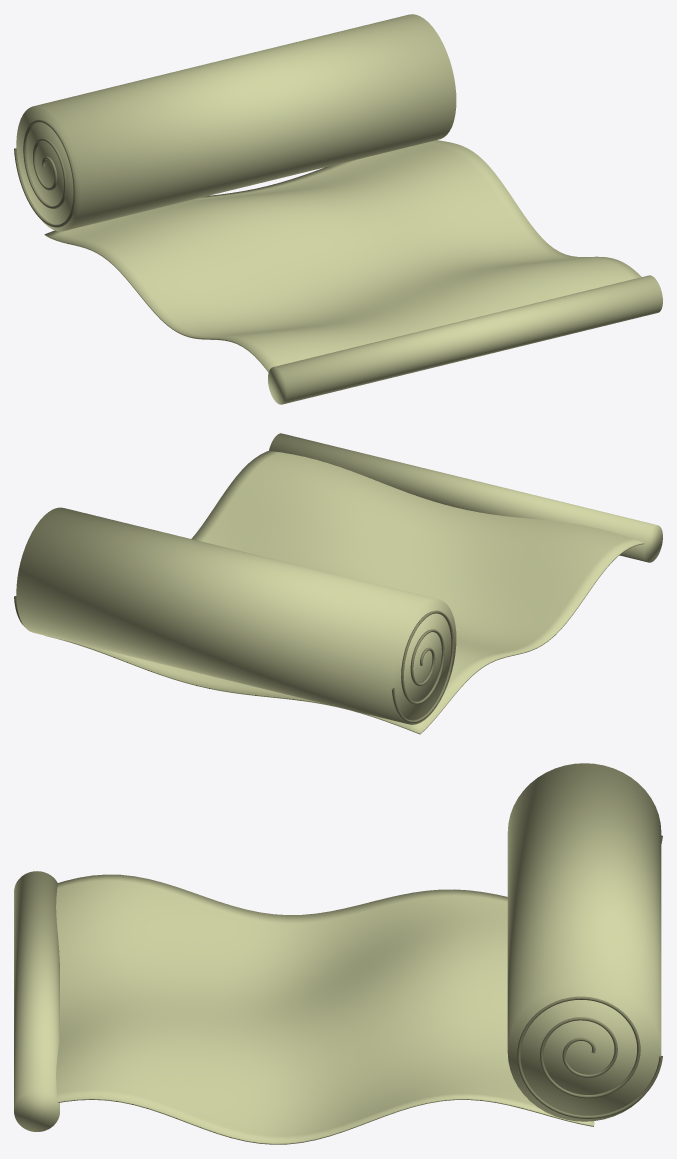
The picture shows the model from 3 angles, top to bottom: view 1: azimuth 30°, elevation 25°; view 2: azimuth 150°, elevation 25°; view 3: azimuth 270°, elevation 25°; orthographic projection. The views are drawn at different scales.
Visible parts, largest first — view 1: TI014 / editable draped woven sheet, TI014 / rolled cloth body, TI014 / partially rolled lower edge, TI014 / visible spiral selvage; view 2: TI014 / rolled cloth body, TI014 / editable draped woven sheet, TI014 / partially rolled lower edge, TI014 / visible spiral selvage; view 3: TI014 / editable draped woven sheet, TI014 / rolled cloth body, TI014 / partially rolled lower edge, TI014 / visible spiral selvage.001.
Boxes of the visible parts, x1,y1,x2,y2 form: TI014 / editable draped woven sheet: [44, 140, 641, 372]; TI014 / rolled cloth body: [16, 14, 456, 231]; TI014 / partially rolled lower edge: [268, 275, 662, 404]; TI014 / visible spiral selvage: [14, 119, 76, 227]; TI014 / rolled cloth body: [16, 507, 456, 724]; TI014 / editable draped woven sheet: [45, 450, 644, 734]; TI014 / partially rolled lower edge: [269, 433, 662, 562]; TI014 / visible spiral selvage: [391, 610, 454, 723]; TI014 / editable draped woven sheet: [56, 874, 594, 1144]; TI014 / rolled cloth body: [507, 763, 661, 1121]; TI014 / partially rolled lower edge: [14, 871, 59, 1131]; TI014 / visible spiral selvage.001: [517, 996, 662, 1118].
Bounding box in the file's own units: 2.73 × 0.9328 × 3.38.
